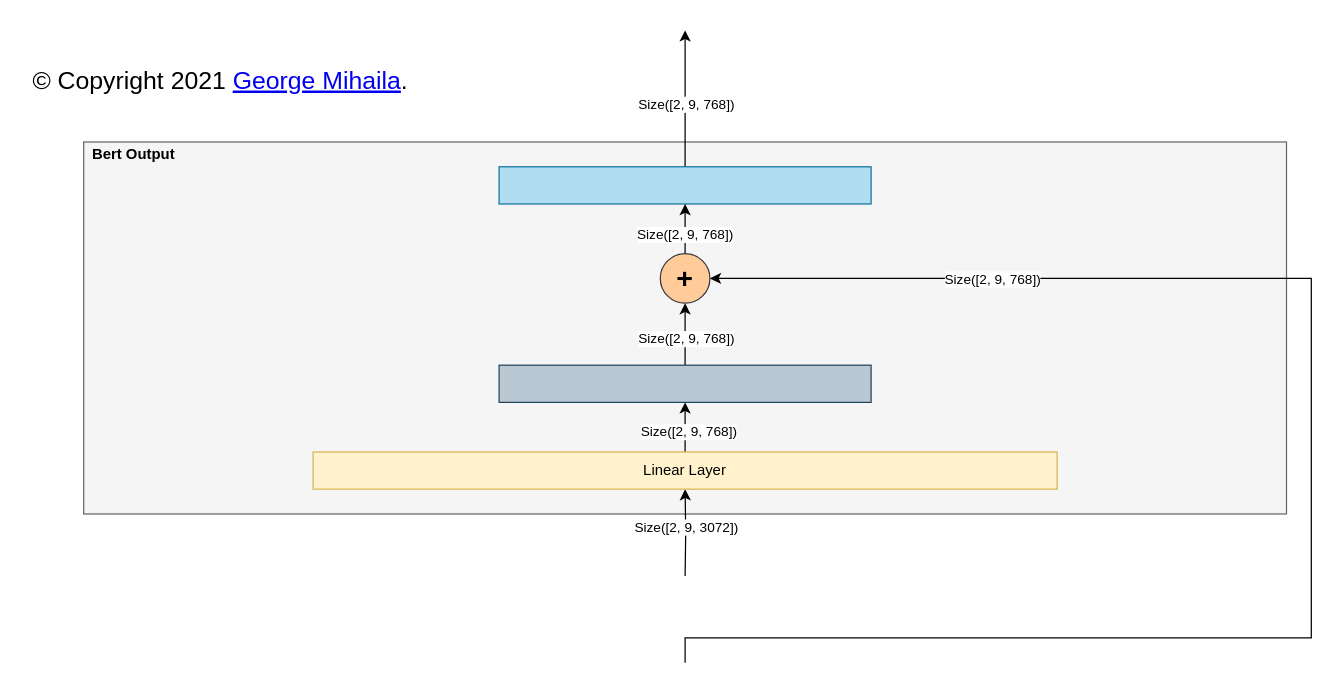
The diagram is 1343 pixels wide and 694 high, and some of its shapes have lost their labels. The box of each missing label's shape, as (x1, y1, x2, y2) in pixels:
Dropout Layer p=0.1: (498, 364, 871, 402)
Layer Normalization: (498, 166, 871, 204)
